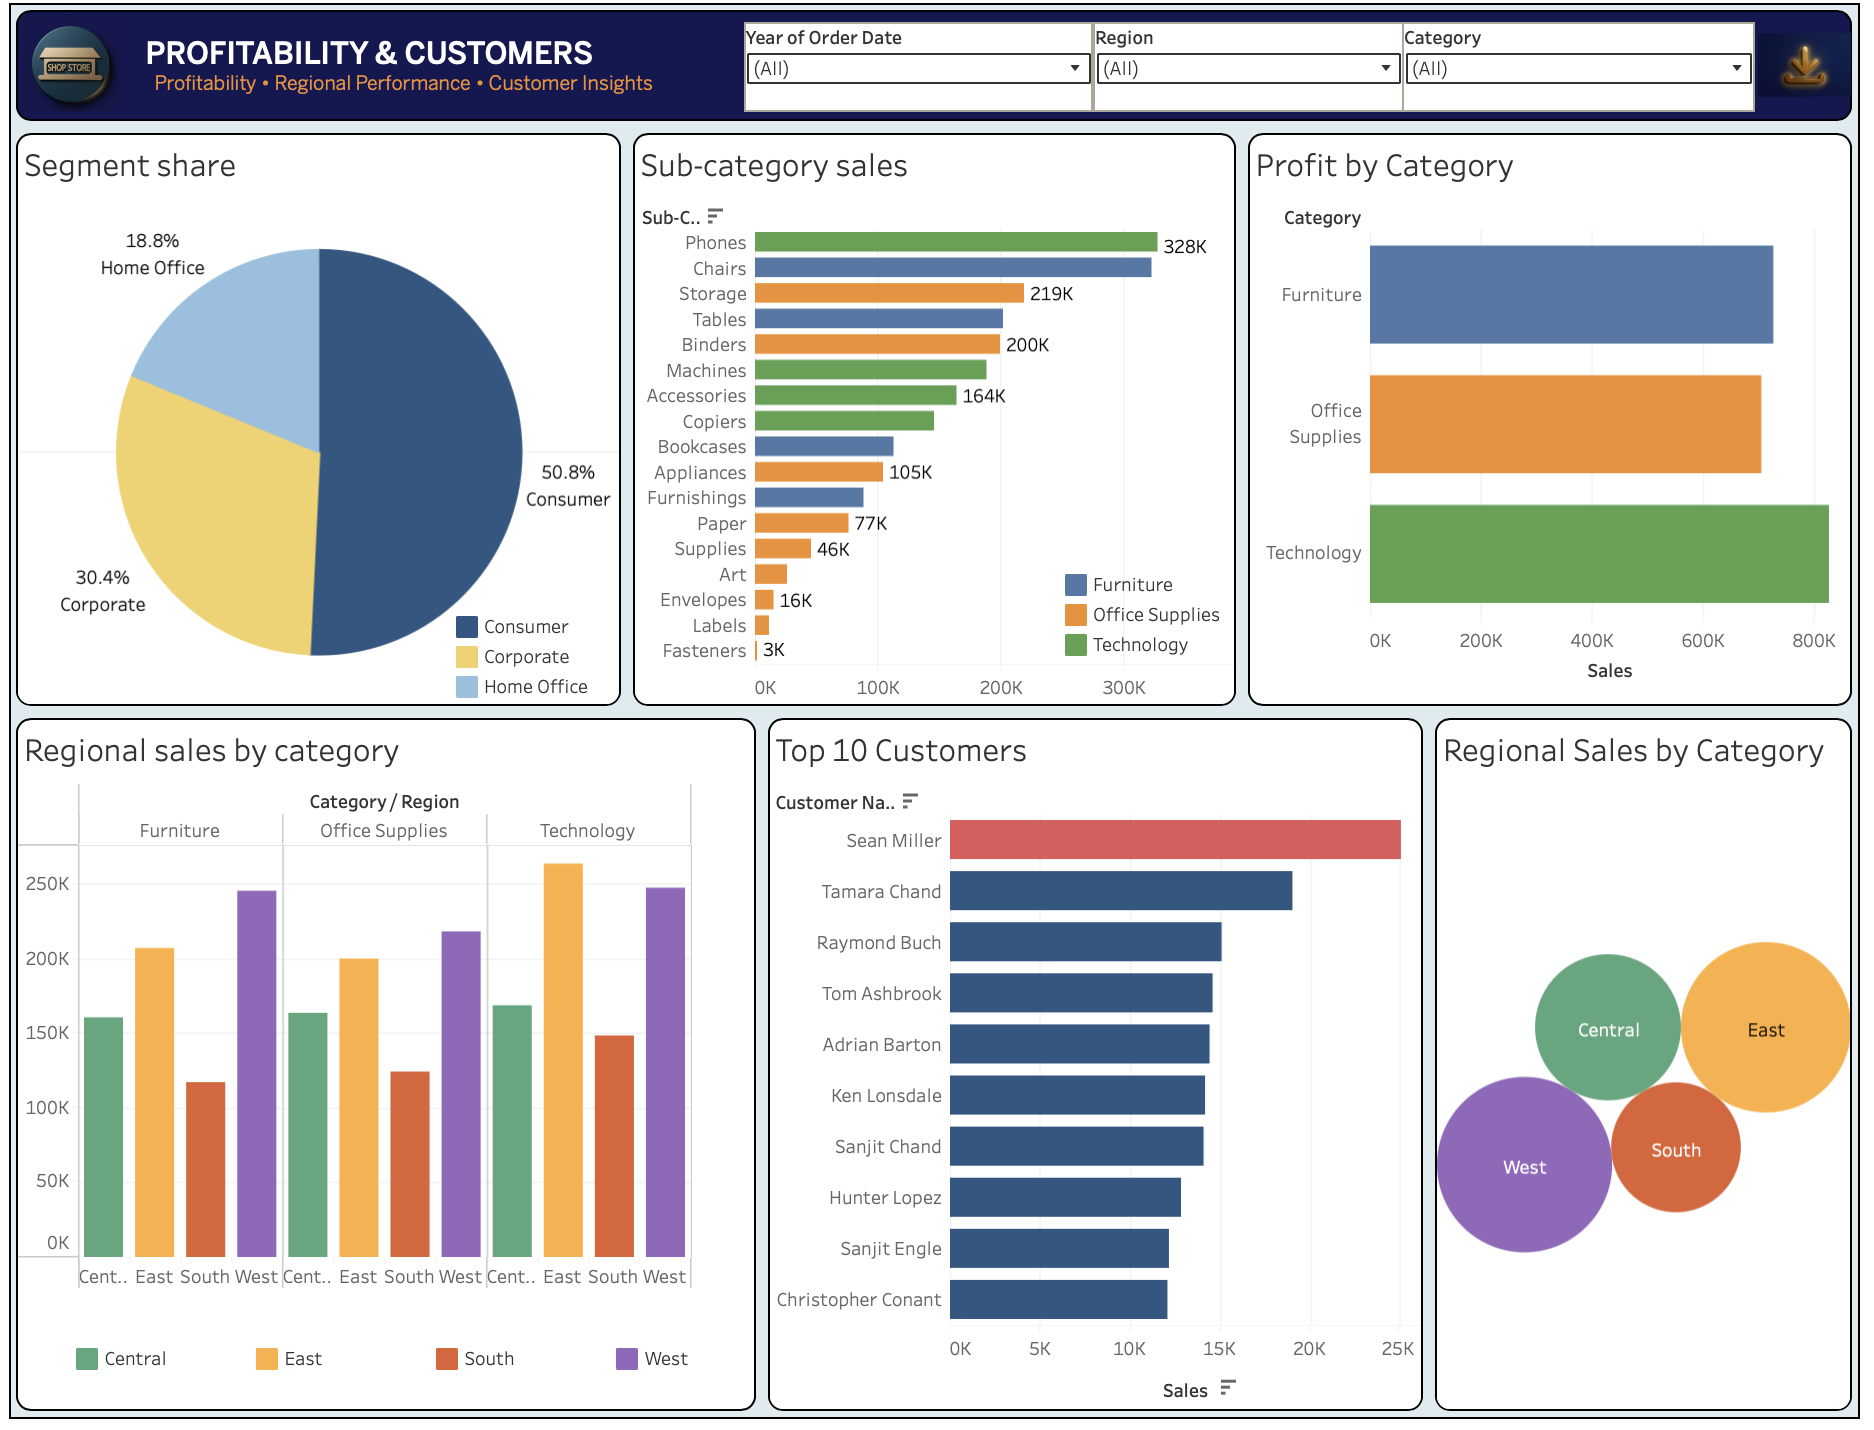

The dashboard page shown, as its layout file describes it:
{"tool":"tableau","page":{"name":"Profitability & Customers","canvas":[1000,1000],"units":"permille","ordinal":1},"visuals":[{"type":"text","box":[7.2,9.4,985.6,85.4]},{"type":"image","param":"Image/Gemini_Generated_Image_qrgtz0qrgtz0qrgt 1.jpg","box":[13.7,16.7,114.8,67.7]},{"type":"filter","title":"Regional Sales by Category","param":"[federated.0tc4t8h0byqgj4115zl2k156vgq5].[yr:Order Date:ok]","box":[398.2,21.9,186.4,62.5]},{"type":"filter","title":"Sub-category sales","param":"[federated.0tc4t8h0byqgj4115zl2k156vgq5].[none:Region:nk]","box":[584.6,21.9,165.8,62.5]},{"type":"filter","title":"Sub-category sales","param":"[federated.0tc4t8h0byqgj4115zl2k156vgq5].[none:Category:nk]","box":[749.6,21.9,188,62.5]},{"type":"worksheet","title":"Segment share","mark":"Pie","rows":["Calculation_0698657129615361"],"box":[7.2,94.8,328.5,406.2]},{"type":"worksheet","title":"Sub-category sales","mark":"Automatic","rows":["Sub-Category"],"cols":["Sales"],"box":[335.7,94.8,328.5,406.2]},{"type":"worksheet","title":"Profit by Category","mark":"Automatic","rows":["Category"],"cols":["Sales"],"box":[664.3,94.8,328.5,406.2]},{"type":"legend","title":"Profit by Category","param":"[federated.0tc4t8h0byqgj4115zl2k156vgq5].[none:Category:nk]","box":[567.3,382.3,114.9,94.8]},{"type":"legend","title":"Segment share","param":"[federated.0tc4t8h0byqgj4115zl2k156vgq5].[none:Segment:nk]","box":[242.2,411.5,114.9,81.2]},{"type":"worksheet","title":"Regional sales by category","mark":"Automatic","rows":["Sales"],"cols":["Category","Region"],"box":[7.2,501,400.8,489.6]},{"type":"worksheet","title":"Top 10 Customers","mark":"Automatic","rows":["Customer Name"],"cols":["Sales"],"box":[407.9,501,356,489.6]},{"type":"worksheet","title":"Regional Sales by Category","mark":"Circle","box":[764,501,228.8,489.6]}]}

Visuals, with their boxes on the dashboard's canvas, which has no fixed pixel size, in thousandths of its width and height (x1, y1, x2, y2). These are canvas units, not pixel positions in the 1874x1430 screenshot, which may show the page scaled, cropped or inside an application window:
text: bbox=(7, 9, 993, 95)
image: bbox=(14, 17, 128, 84)
"Regional Sales by Category" filter: bbox=(398, 22, 585, 84)
"Sub-category sales" filter: bbox=(585, 22, 750, 84)
"Sub-category sales" filter: bbox=(750, 22, 938, 84)
"Segment share" worksheet (Pie marks): bbox=(7, 95, 336, 501)
"Sub-category sales" worksheet: bbox=(336, 95, 664, 501)
"Profit by Category" worksheet: bbox=(664, 95, 993, 501)
"Profit by Category" legend: bbox=(567, 382, 682, 477)
"Segment share" legend: bbox=(242, 412, 357, 493)
"Regional sales by category" worksheet: bbox=(7, 501, 408, 991)
"Top 10 Customers" worksheet: bbox=(408, 501, 764, 991)
"Regional Sales by Category" worksheet (Circle marks): bbox=(764, 501, 993, 991)
